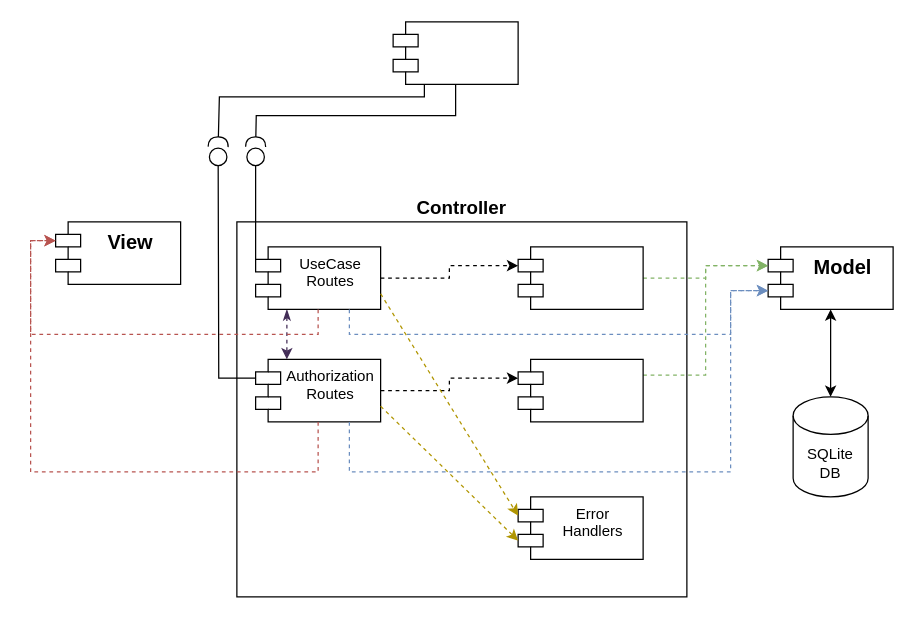
Image size: 915x619. Some labels were removed from this diagram. Here are the shapes that lost their labels. From the top down, the box of each, then its label:
(392, 21, 518, 84): Client
(517, 246, 643, 309): UseCase Forms
(517, 358, 643, 422): Authorization Forms
